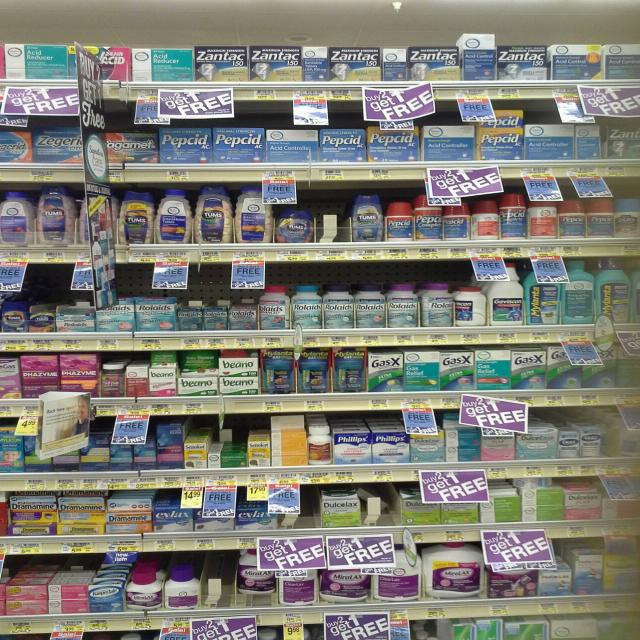unorganised: (237, 560, 279, 604), (453, 283, 488, 328), (471, 197, 501, 241)
